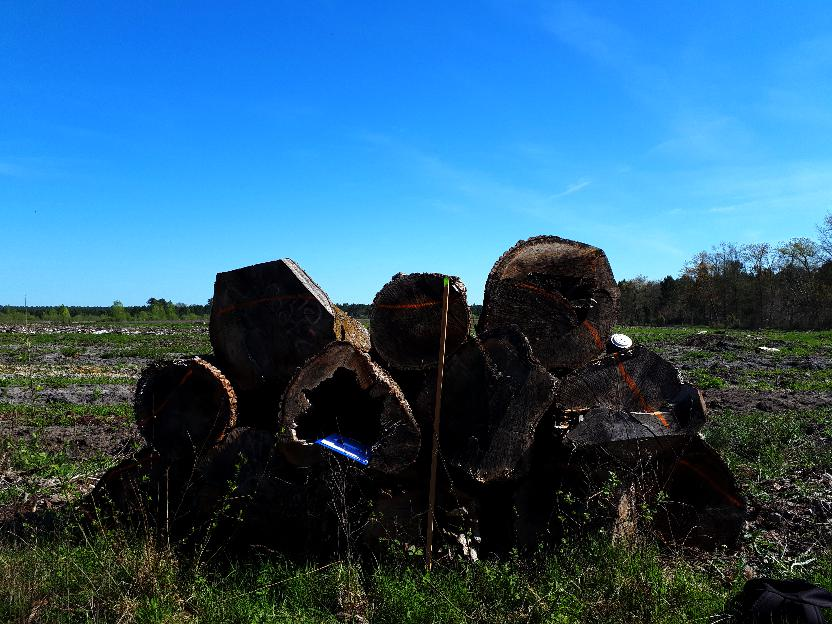etalon: (426, 274, 452, 580)
object: (545, 340, 719, 514), (410, 330, 560, 479), (478, 234, 624, 374), (273, 341, 425, 471), (184, 429, 336, 559), (625, 430, 749, 560), (478, 440, 611, 560), (212, 266, 330, 386), (129, 355, 235, 446), (371, 271, 472, 364), (353, 492, 477, 560), (84, 455, 194, 531)
pile: (82, 234, 750, 560)
